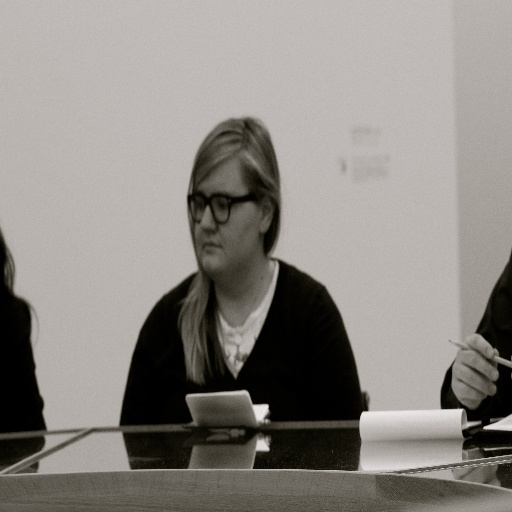hand: (442, 338, 507, 423)
